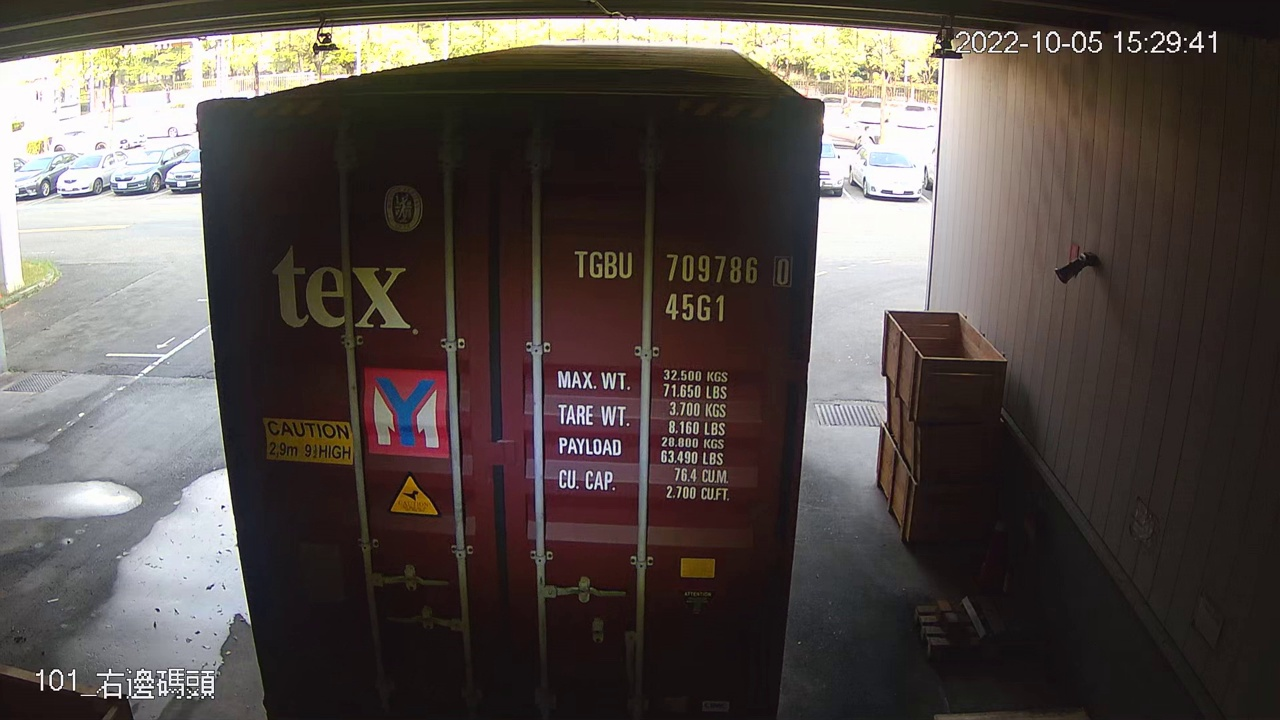container: (564, 241, 800, 326)
